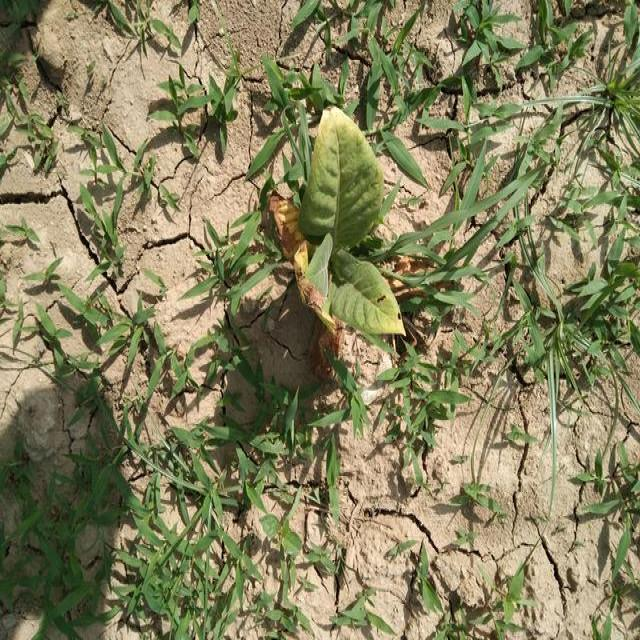crop: (295, 89, 419, 351)
